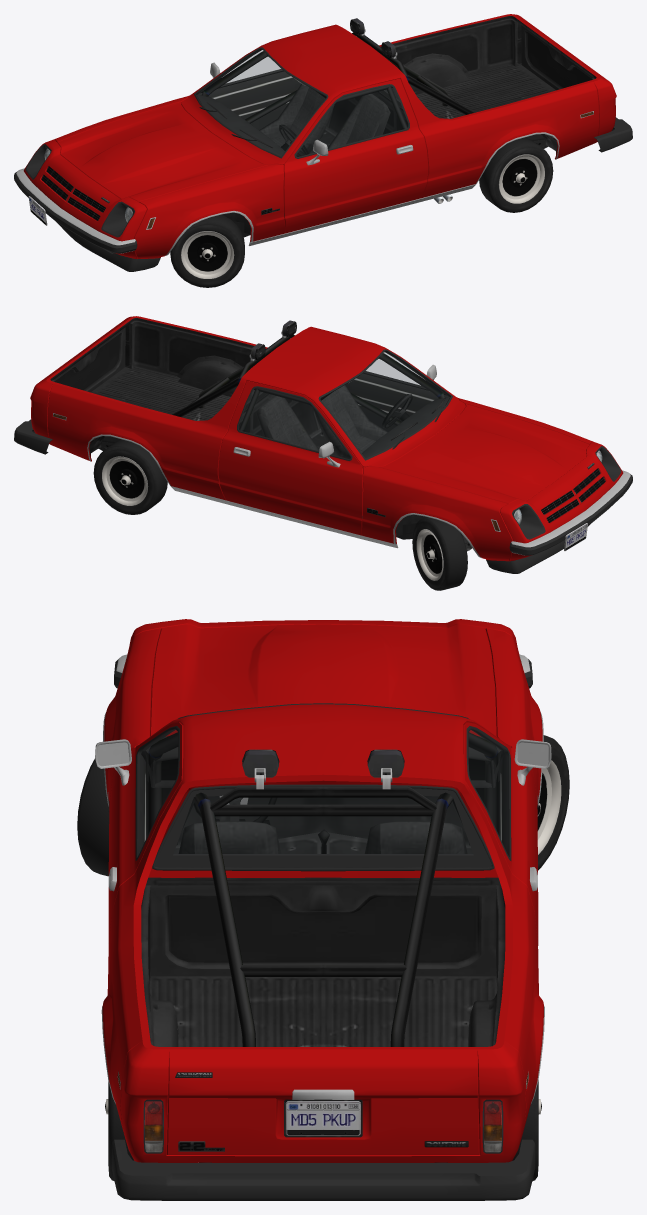
The model's file is pickup78.glb.
3 renders of one model, top to bottom at view 1: azimuth 30°, elevation 25°; view 2: azimuth 150°, elevation 25°; view 3: azimuth 270°, elevation 25°, orthographic. The views are drawn at different scales.
Parts seen in each view (by area): view 1: Body_Bodycolour_0, HOOD_Bodycolour_0, DOOR_FL_Bodycolour_0, Trunkbed_UCB_BOTTOM_0, FENDER_FL_Bodycolour_0, Windshield_UCB_GLASS_CLEAN_0, GLASS_DOOR_FL_UCB_GLASS_CLEAN_0, GRILL_PLATE_Bodycolour_0, ROLLCAGE_UCB_BOTTOM_0, Doorcard_FR_lasley67_interior_0, Bottom_UCB_BOTTOM_0, Door_trunk_inner_UCB_BOTTOM_0 (+18 smaller); view 2: Body_Bodycolour_0, HOOD_Bodycolour_0, DOOR_FR_Bodycolour_0, Trunkbed_UCB_BOTTOM_0, FENDER_FR_Bodycolour_0, Windshield_UCB_GLASS_CLEAN_0, GLASS_DOOR_FR_UCB_GLASS_CLEAN_0, GRILL_PLATE_Bodycolour_0, ROLLCAGE_UCB_BOTTOM_0, Bottom_UCB_BOTTOM_0, Door_trunk_inner_UCB_BOTTOM_0, Wheel_RR_wp_tire_01_0 (+19 smaller); view 3: Trunkbed_UCB_BOTTOM_0, Body_Bodycolour_0, DOOR_TRUNK_Bodycolour_0, HOOD_Bodycolour_0, ROLLCAGE_UCB_BOTTOM_0, BUMPER_REAR_UCB_BOTTOM_0, GLASS_REAR_UCB_GLASS_CLEAN_0, Bottom_UCB_BOTTOM_0, INTERIOR_UCB_BOTTOM_0, FENDER_FR_Bodycolour_0, FENDER_FL_Bodycolour_0, DOOR_FL_Bodycolour_0 (+20 smaller).
Boxes of the visible parts, left/top/right/bottom form: Body_Bodycolour_0: left=181, top=14, right=616, bottom=198; HOOD_Bodycolour_0: left=57, top=101, right=267, bottom=201; DOOR_FL_Bodycolour_0: left=283, top=78, right=428, bottom=233; Trunkbed_UCB_BOTTOM_0: left=385, top=16, right=596, bottom=118; FENDER_FL_Bodycolour_0: left=134, top=164, right=285, bottom=258; Windshield_UCB_GLASS_CLEAN_0: left=197, top=49, right=325, bottom=155; GLASS_DOOR_FL_UCB_GLASS_CLEAN_0: left=297, top=86, right=407, bottom=156; GRILL_PLATE_Bodycolour_0: left=24, top=139, right=146, bottom=258; ROLLCAGE_UCB_BOTTOM_0: left=202, top=18, right=474, bottom=132; Doorcard_FR_lasley67_interior_0: left=199, top=71, right=301, bottom=129; Bottom_UCB_BOTTOM_0: left=57, top=47, right=593, bottom=237; Door_trunk_inner_UCB_BOTTOM_0: left=516, top=19, right=593, bottom=90; Body_Bodycolour_0: left=30, top=316, right=465, bottom=500; HOOD_Bodycolour_0: left=379, top=403, right=589, bottom=503; DOOR_FR_Bodycolour_0: left=218, top=380, right=363, bottom=535; Trunkbed_UCB_BOTTOM_0: left=50, top=318, right=261, bottom=420; FENDER_FR_Bodycolour_0: left=361, top=466, right=512, bottom=561; Windshield_UCB_GLASS_CLEAN_0: left=321, top=351, right=450, bottom=457; GLASS_DOOR_FR_UCB_GLASS_CLEAN_0: left=239, top=388, right=349, bottom=458; GRILL_PLATE_Bodycolour_0: left=500, top=441, right=623, bottom=561; ROLLCAGE_UCB_BOTTOM_0: left=172, top=320, right=445, bottom=434; Bottom_UCB_BOTTOM_0: left=53, top=349, right=609, bottom=539; Door_trunk_inner_UCB_BOTTOM_0: left=53, top=321, right=130, bottom=392; Wheel_RR_wp_tire_01_0: left=93, top=439, right=167, bottom=514; Trunkbed_UCB_BOTTOM_0: left=141, top=877, right=505, bottom=1046; Body_Bodycolour_0: left=102, top=704, right=543, bottom=1162; DOOR_TRUNK_Bodycolour_0: left=167, top=1047, right=479, bottom=1154; HOOD_Bodycolour_0: left=150, top=624, right=496, bottom=736; ROLLCAGE_UCB_BOTTOM_0: left=148, top=732, right=498, bottom=1046; BUMPER_REAR_UCB_BOTTOM_0: left=111, top=1139, right=535, bottom=1200; GLASS_REAR_UCB_GLASS_CLEAN_0: left=174, top=796, right=472, bottom=853; Bottom_UCB_BOTTOM_0: left=101, top=703, right=544, bottom=1103; INTERIOR_UCB_BOTTOM_0: left=147, top=737, right=499, bottom=867; FENDER_FR_Bodycolour_0: left=485, top=628, right=542, bottom=804; FENDER_FL_Bodycolour_0: left=104, top=628, right=160, bottom=804; DOOR_FL_Bodycolour_0: left=108, top=722, right=183, bottom=943.
Bounding box in the file's own units: 471 × 139 × 188.
Materials: 9 (8 with a texture image).
